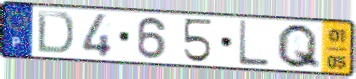4: (80, 12, 114, 59)
5: (182, 17, 216, 64)
6: (135, 15, 169, 61)
D: (35, 8, 76, 56)
L: (237, 19, 271, 68)
Q: (274, 22, 323, 71)
